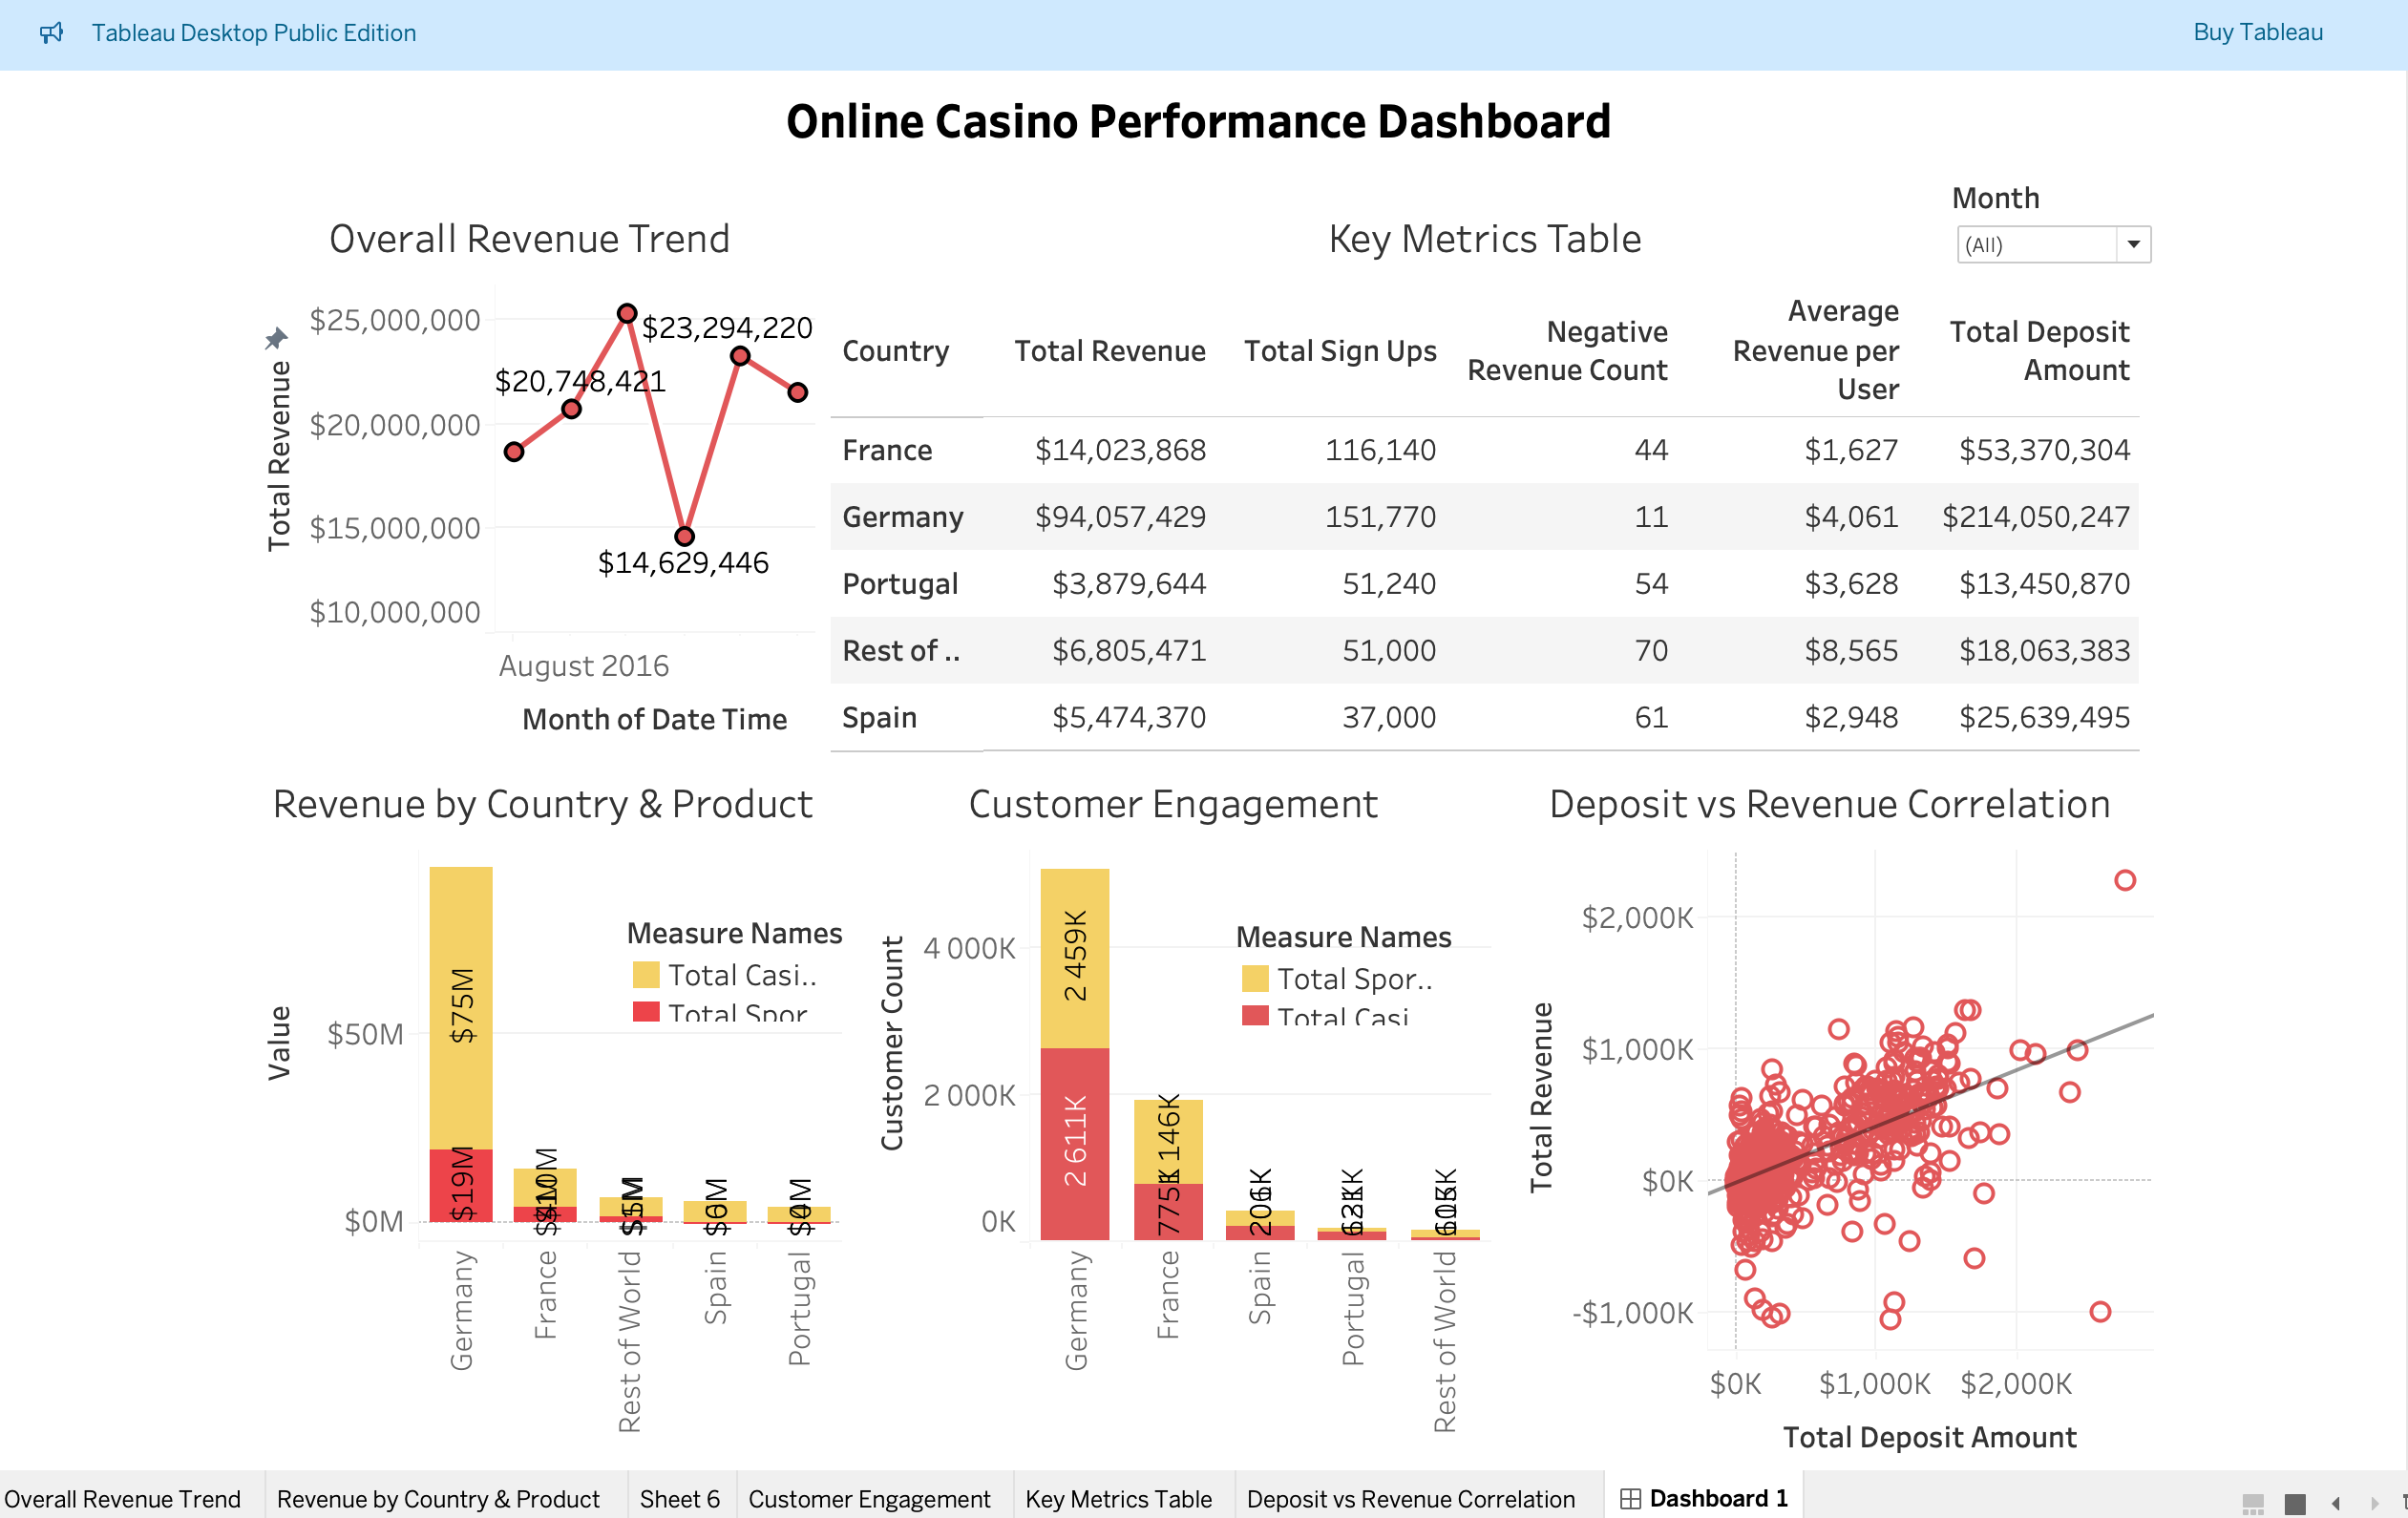

The page's visual inventory and layout, read from the dashboard file:
{"tool":"tableau","page":{"name":"Dashboard 1","canvas":[1600,900],"ordinal":0},"visuals":[{"type":"text","box":[8,8,1584,94]},{"type":"filter","title":"Overall Revenue Trend","param":"[federated.1snt2h11eltjdu1984oxt1aynpa3].[my:DateTime:ok]","box":[1416,93,168,60]},{"type":"worksheet","title":"Overall Revenue Trend","mark":"Automatic","rows":["Total Revenue"],"cols":["DateTime"],"box":[8,102,883,348]},{"type":"worksheet","title":"Key Metrics Table","mark":"Automatic","rows":["Country"],"box":[891,102,701,348]},{"type":"worksheet","title":"Revenue by Country & Product","mark":"Automatic","cols":["Country"],"box":[8,450,504,442]},{"type":"worksheet","title":"Customer Engagement","mark":"Bar","cols":["Country"],"box":[512,450,535,442]},{"type":"worksheet","title":"Deposit vs Revenue Correlation","mark":"Automatic","rows":["Total Revenue"],"cols":["Total Deposit Amount"],"box":[1047,450,545,442]},{"type":"legend","title":"Revenue by Country & Product","param":"[federated.1snt2h11eltjdu1984oxt1aynpa3].[:Measure Names]","box":[332,544,200,67]},{"type":"legend","title":"Customer Engagement","param":"[federated.1snt2h11eltjdu1984oxt1aynpa3].[:Measure Names]","box":[829,546,195,67]}]}

Visuals, with their boxes on the page's 1600x900 design canvas (x1, y1, x2, y2). These are canvas units, not pixel positions in the 2408x1518 screenshot, which may show the page scaled, cropped or inside an application window:
text: bbox=[8, 8, 1592, 102]
"Overall Revenue Trend" filter: bbox=[1416, 93, 1584, 153]
"Overall Revenue Trend" worksheet: bbox=[8, 102, 891, 450]
"Key Metrics Table" worksheet: bbox=[891, 102, 1592, 450]
"Revenue by Country & Product" worksheet: bbox=[8, 450, 512, 892]
"Customer Engagement" worksheet (Bar marks): bbox=[512, 450, 1047, 892]
"Deposit vs Revenue Correlation" worksheet: bbox=[1047, 450, 1592, 892]
"Revenue by Country & Product" legend: bbox=[332, 544, 532, 611]
"Customer Engagement" legend: bbox=[829, 546, 1024, 613]
